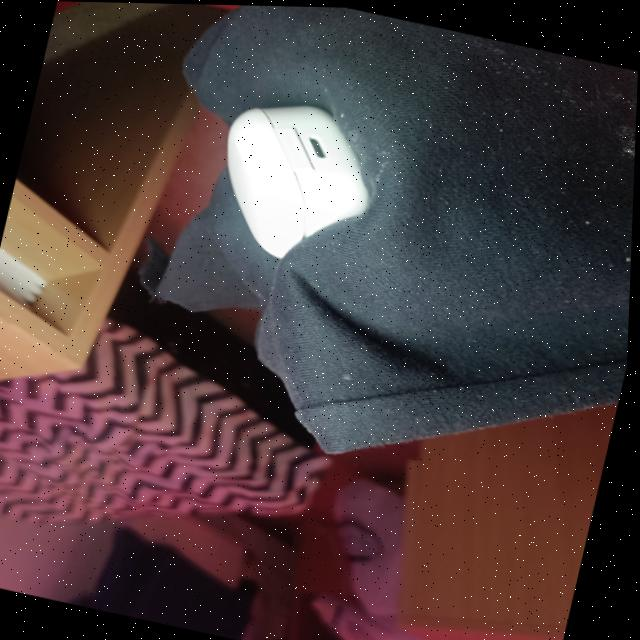headphones: (228, 103, 370, 256)
